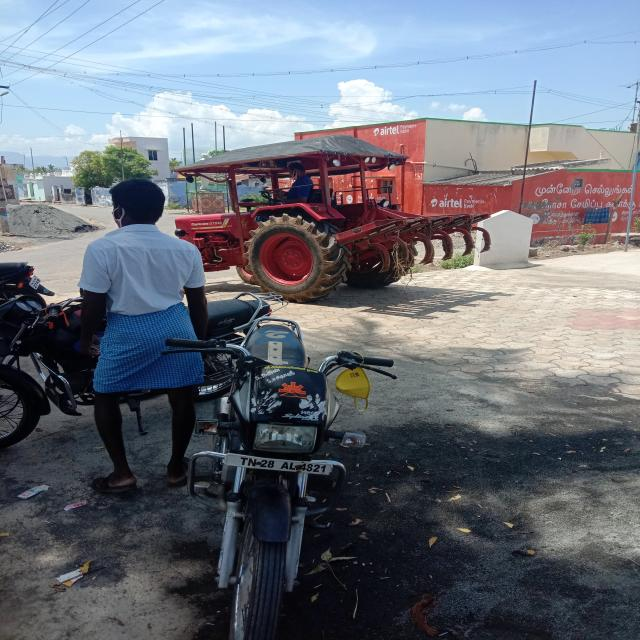Bike: (181, 314, 398, 640)
Tractor: (177, 151, 485, 299)
